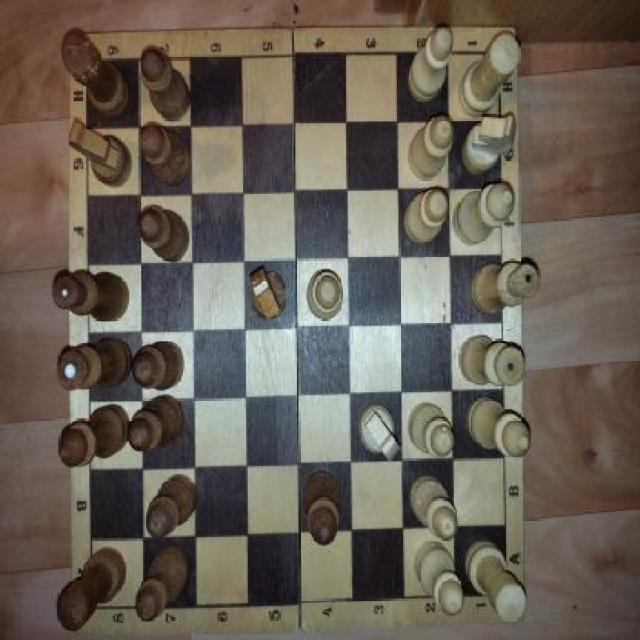chess-table-corners: (68, 30, 114, 96), (472, 29, 520, 85), (483, 560, 526, 622), (74, 574, 118, 632)
